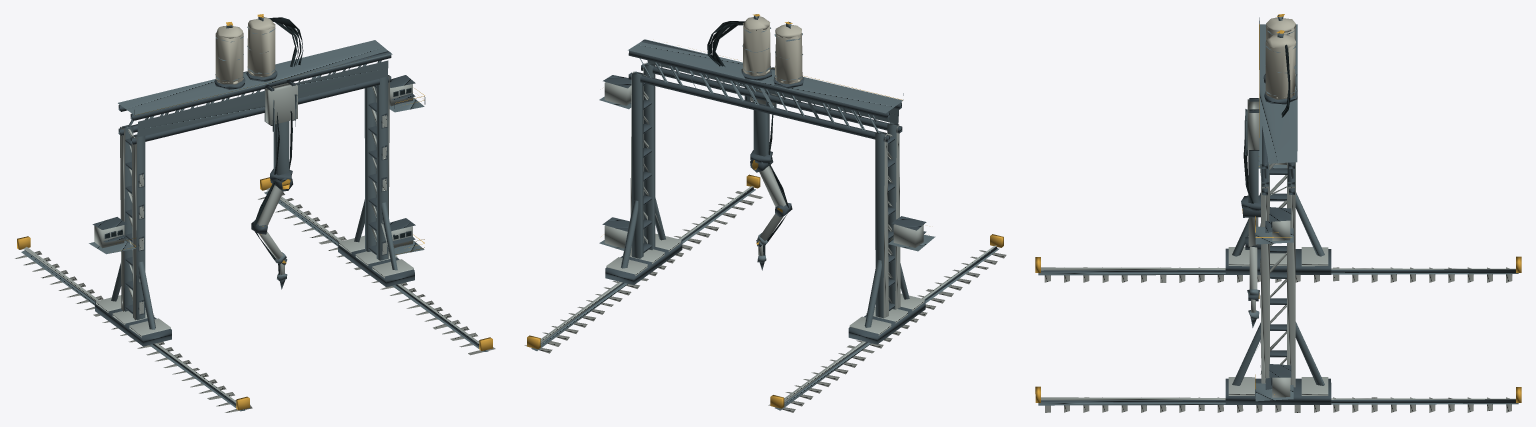
Rendered from terraformer_3000_d0_lod2.glb.
The picture shows the model from 3 angles, left to right: view 1: azimuth 30°, elevation 25°; view 2: azimuth 150°, elevation 25°; view 3: azimuth 270°, elevation 25°; orthographic projection. The views are drawn at different scales.
Visible parts, largest first — view 1: TERRAFORMER_3000_LOD2_STATIC_GEOMETRY; view 2: TERRAFORMER_3000_LOD2_STATIC_GEOMETRY; view 3: TERRAFORMER_3000_LOD2_STATIC_GEOMETRY.
Boxes of the visible parts, x1,y1,x2,y2 form: TERRAFORMER_3000_LOD2_STATIC_GEOMETRY: (15, 14, 495, 412); TERRAFORMER_3000_LOD2_STATIC_GEOMETRY: (524, 14, 1006, 412); TERRAFORMER_3000_LOD2_STATIC_GEOMETRY: (1035, 14, 1521, 412).
Bounding box in the file's own units: 42.04 × 35.96 × 50.59.
